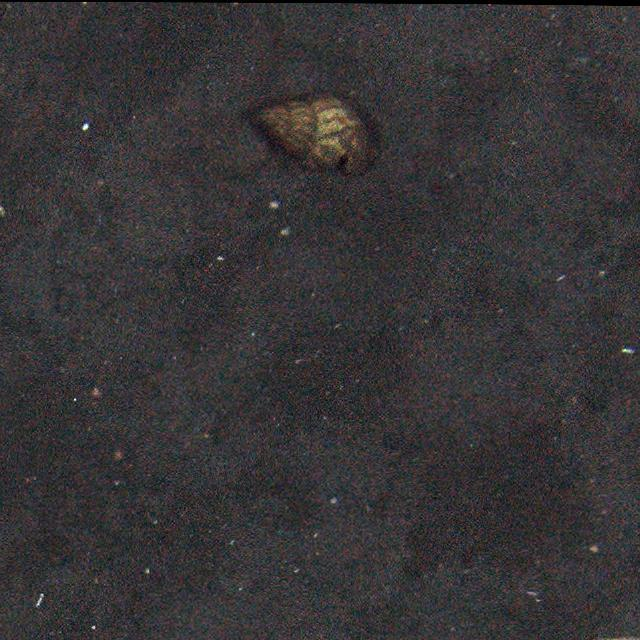whelk: (254, 90, 380, 181)
